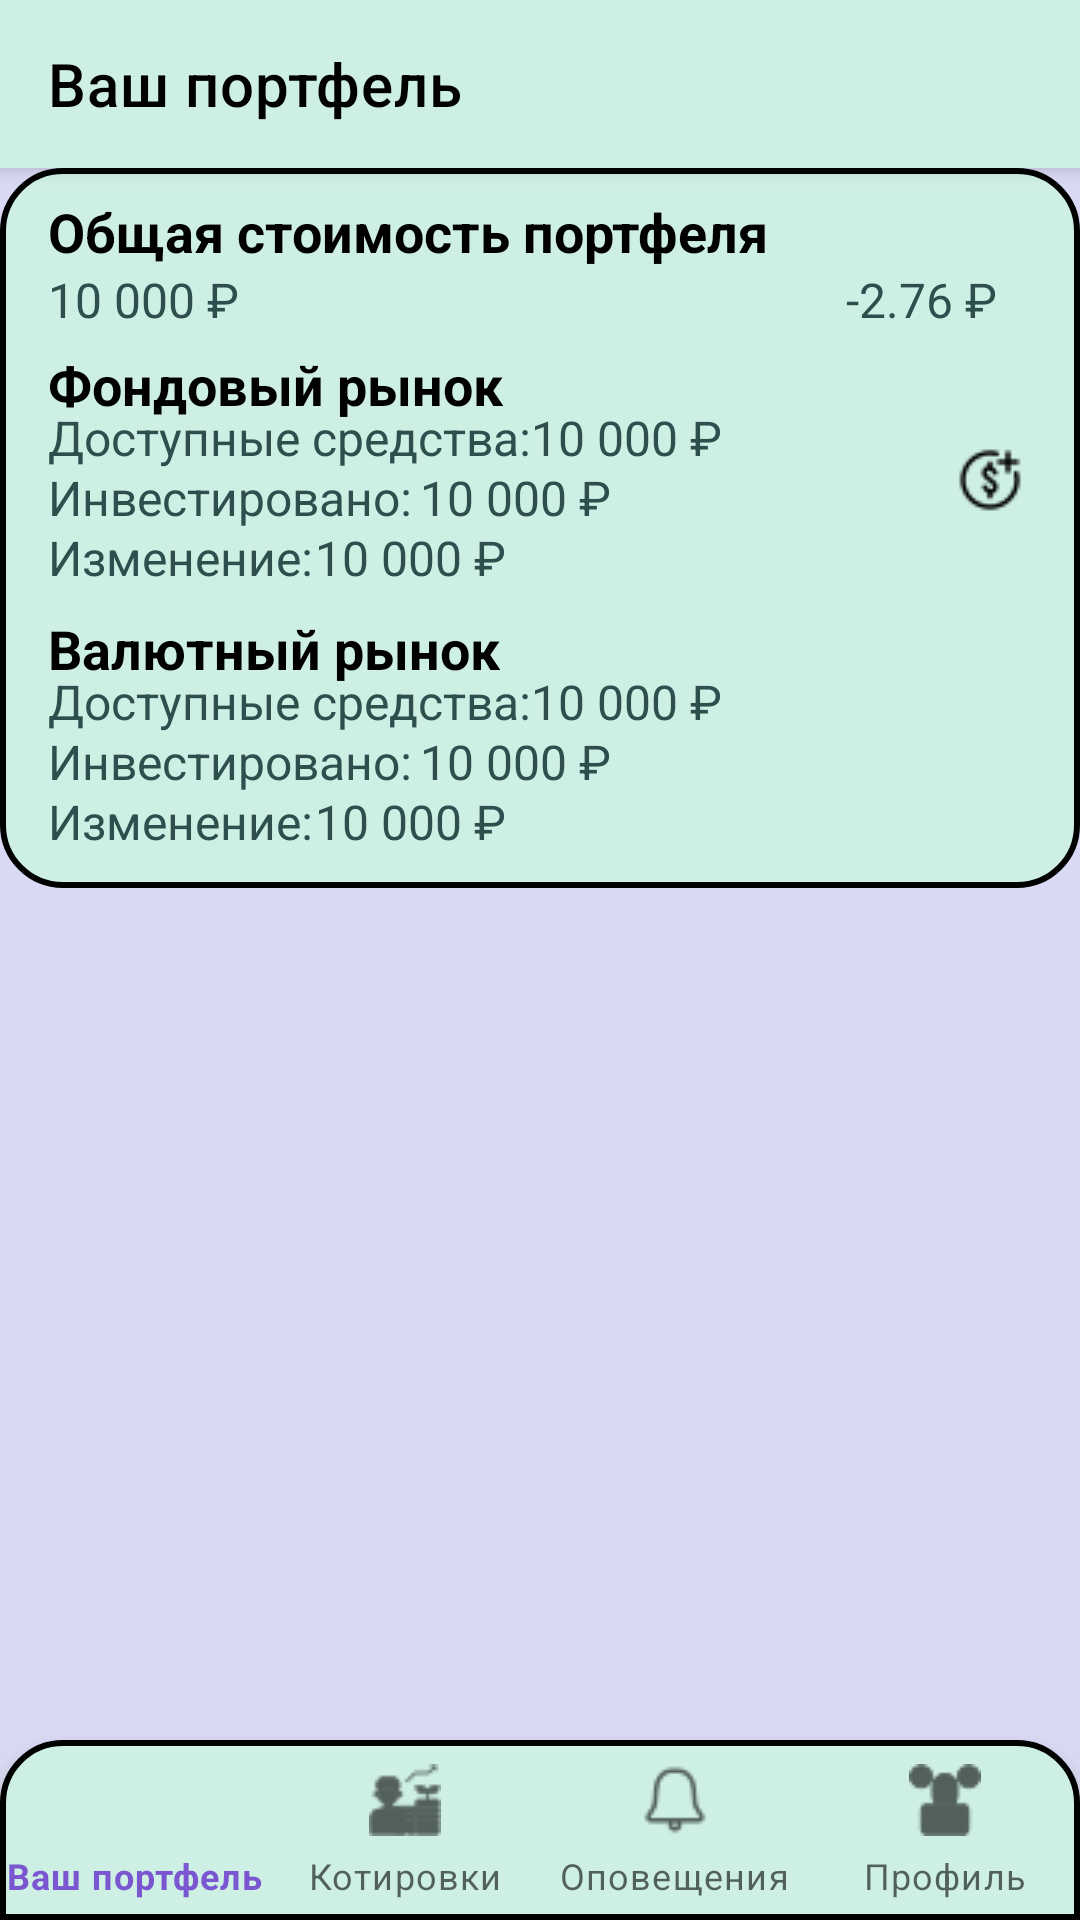

Named icons in this screenshot (1080×1920) and their bounding boxes, (x1, y1, x2, y2):
topup: (959, 449, 1021, 511)
